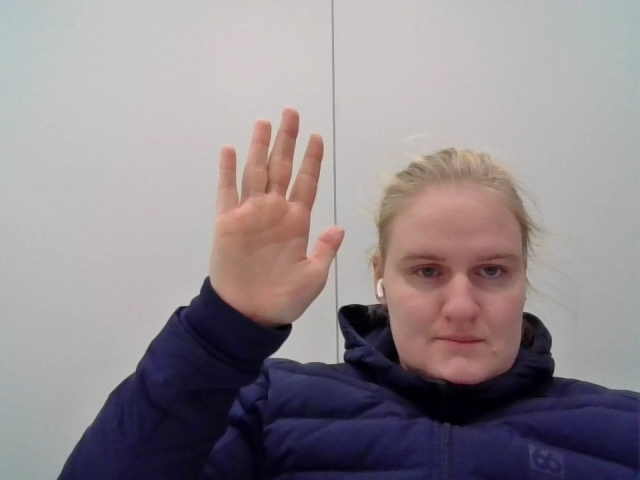nada: (183, 101, 364, 340)
